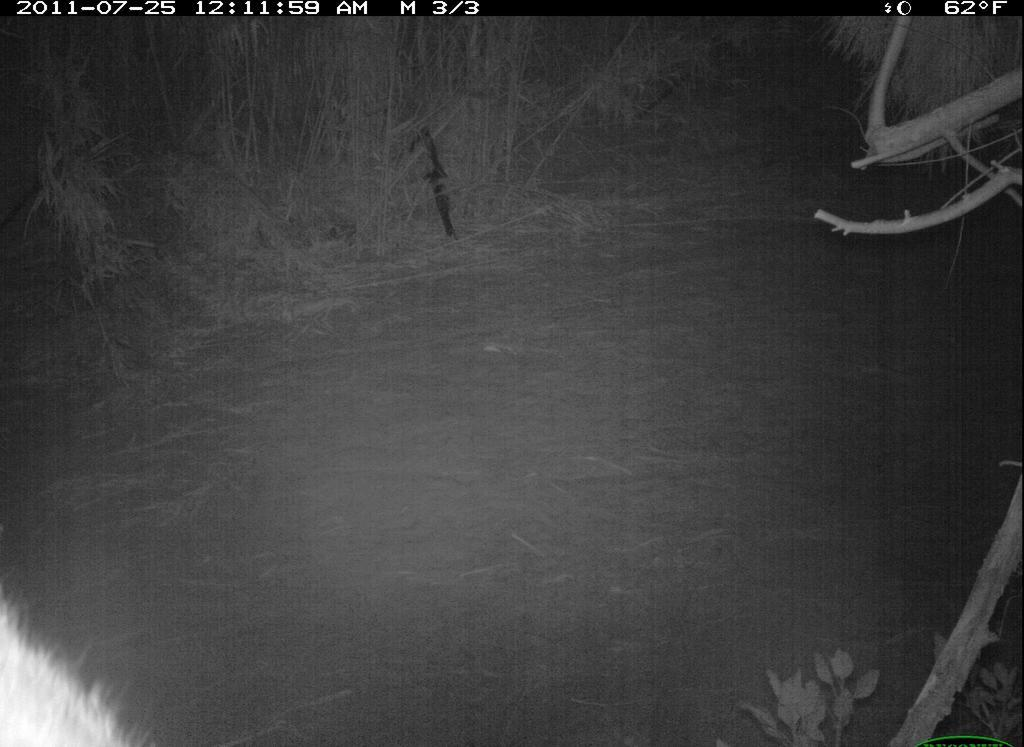raccoon: (4, 594, 161, 747)
